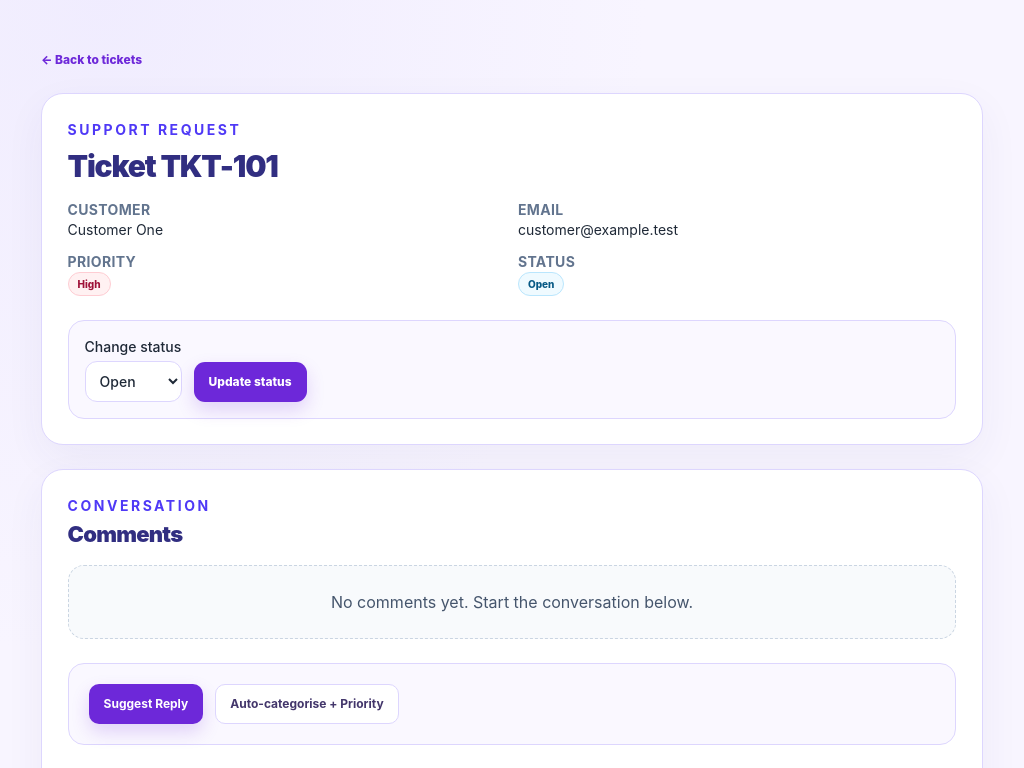
Ticket detail page › shows AI actions to agents and never submits the generated draft
The image size is (1024, 768).
What coordinates should you click on to do the following:
click the button "Suggest Reply"
I would click on:
 (146, 704)
Its box is x1=88 y1=684 x2=203 y2=724.
(page scrolled)
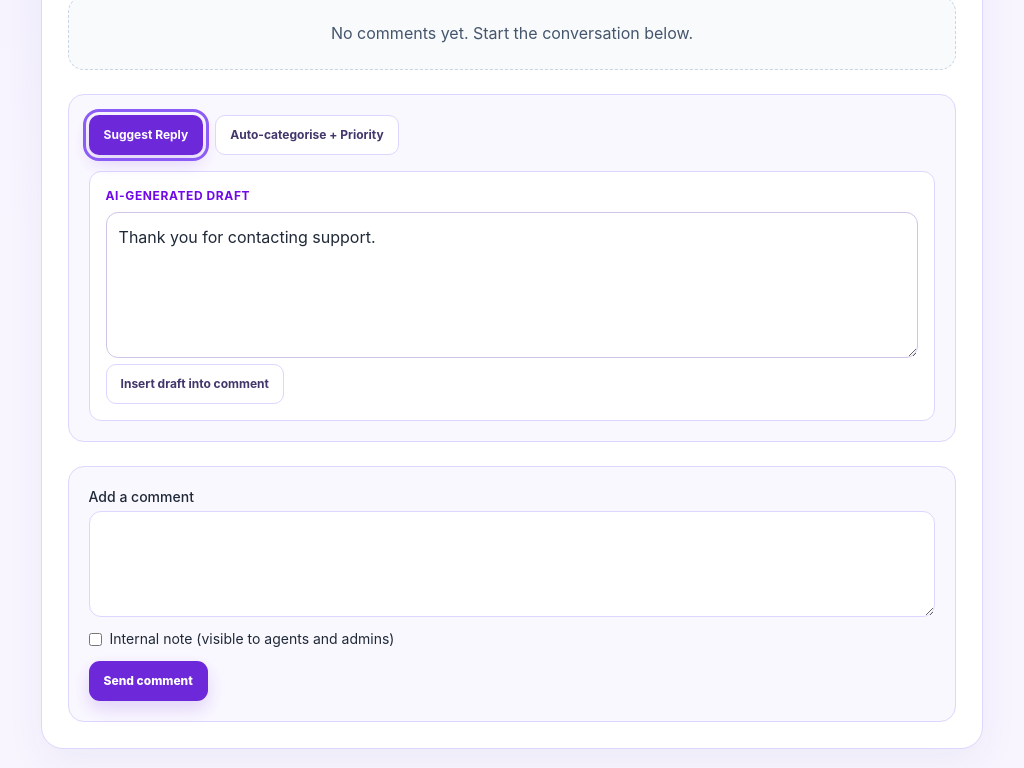
Expected: the text box named "AI-generated draft" holds "Thank you for contacting support.", x1=106 y1=212 x2=918 y2=358
What coordinates should you click on to do the following:
click the button "Insert draft into comment"
I would click on:
 (195, 384)
Its box is x1=106 y1=364 x2=284 y2=404.
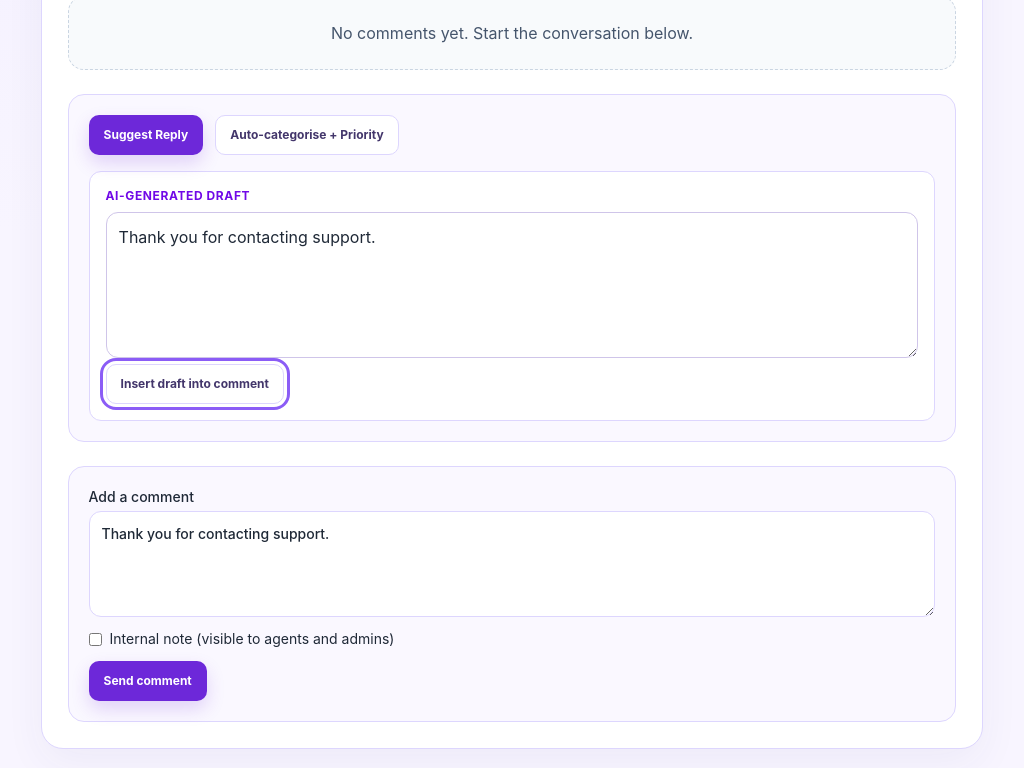
Expected: the text box labelled "Add a comment" holds "Thank you for contacting support.", x1=88 y1=511 x2=935 y2=617
